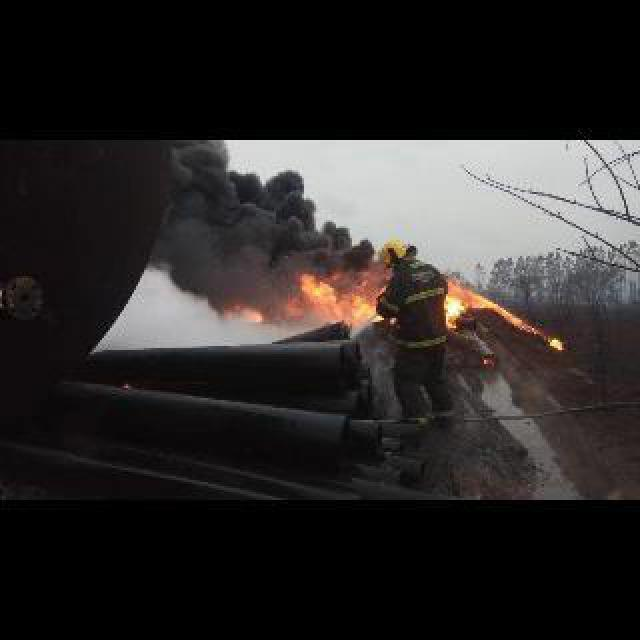Fire: (294, 258, 564, 346), (244, 300, 264, 320)
Smoke: (146, 142, 378, 278)
